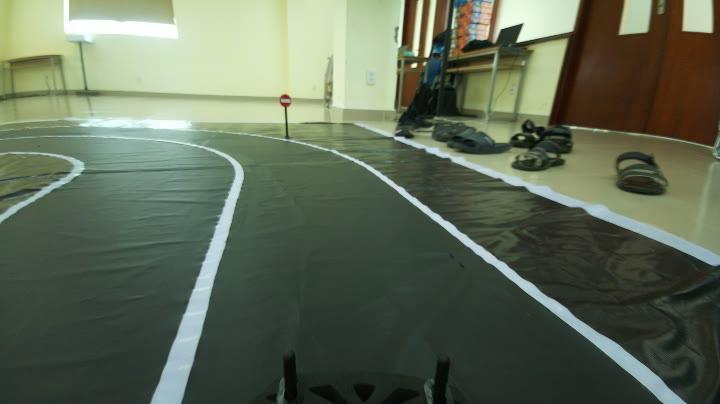no_entry: (279, 95, 293, 110)
